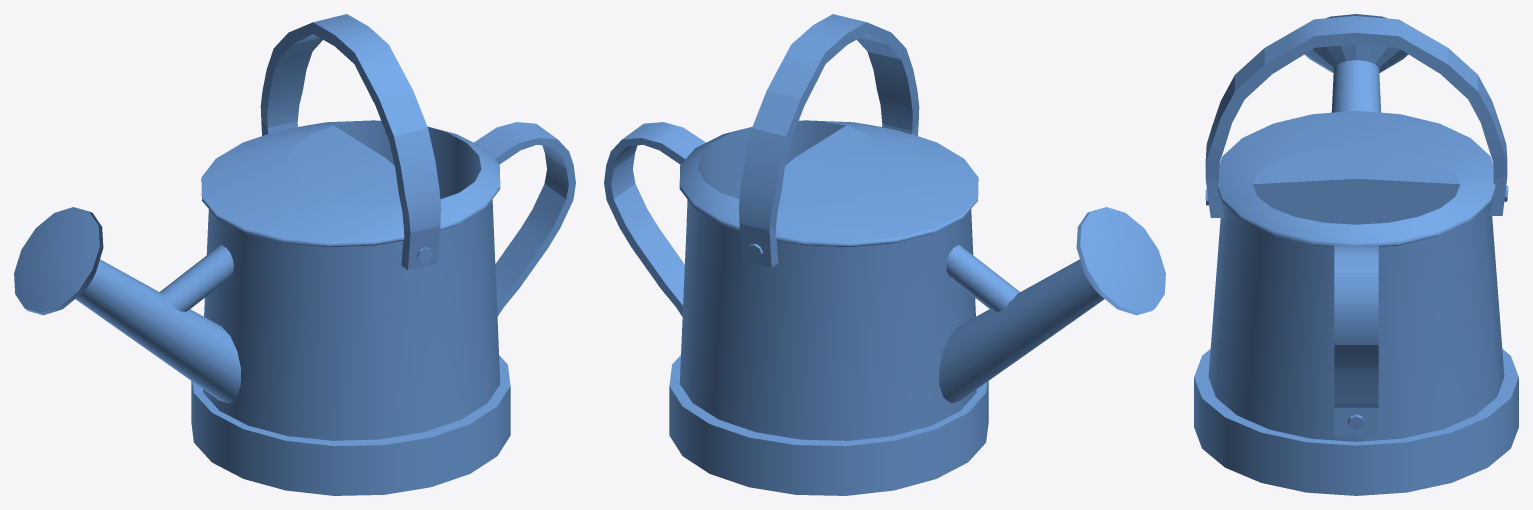
The model's file is SM_water.fbx.
The picture shows the model from 3 angles, left to right: view 1: azimuth 30°, elevation 25°; view 2: azimuth 150°, elevation 25°; view 3: azimuth 270°, elevation 25°; orthographic projection.
Parts seen in each view (by area): view 1: pasted__pCylinder4.001; view 2: pasted__pCylinder4.001; view 3: pasted__pCylinder4.001.
Part boxes in pixels (x1,y1,x2,y2): pasted__pCylinder4.001: (14, 14, 575, 495); pasted__pCylinder4.001: (604, 14, 1165, 495); pasted__pCylinder4.001: (1194, 14, 1518, 495).
Bounding box in the file's own units: 54.49 × 38.47 × 28.03.
